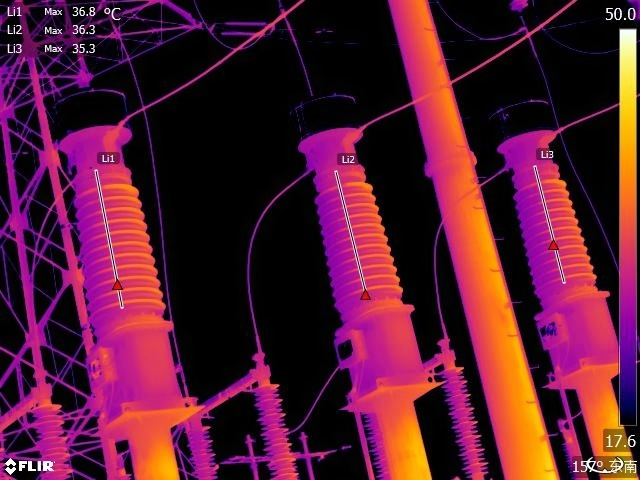current transformer: (289, 75, 442, 398), (51, 83, 201, 410), (487, 85, 618, 373)
post insulator: (438, 362, 498, 480), (251, 379, 305, 480), (29, 401, 73, 477), (188, 423, 228, 480)
switch: (186, 354, 273, 418), (1, 380, 58, 432), (422, 343, 455, 369)
